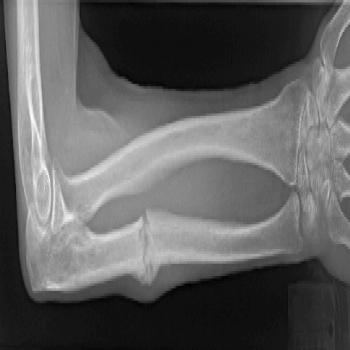Fracture: (135, 187, 157, 297)
